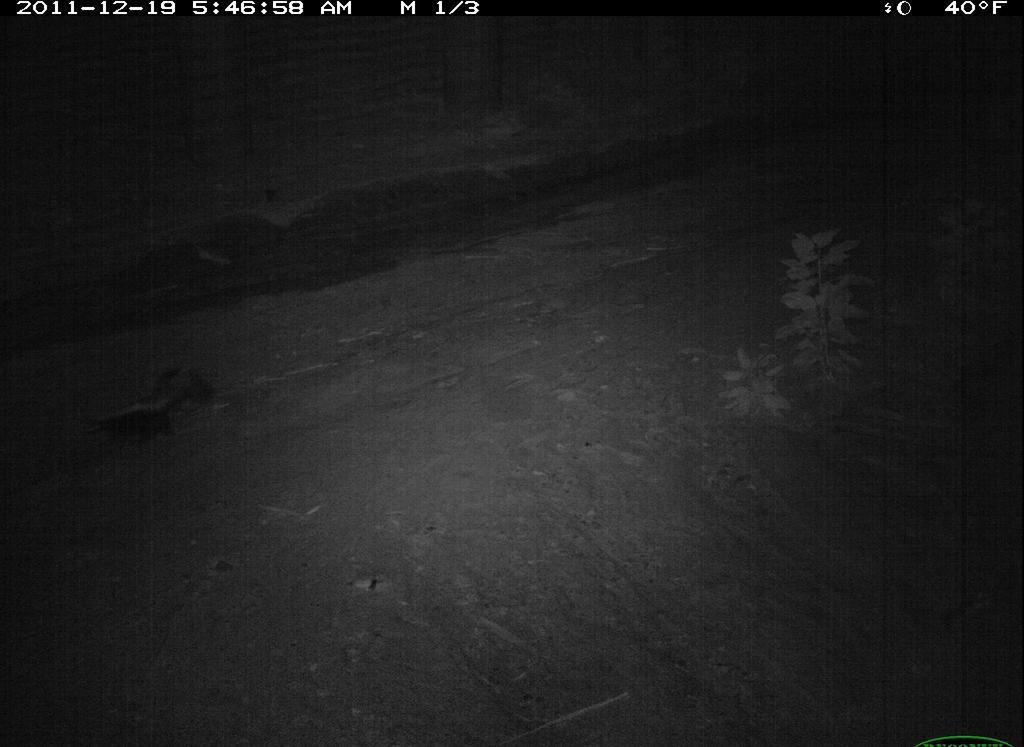skunk: (72, 359, 219, 465)
